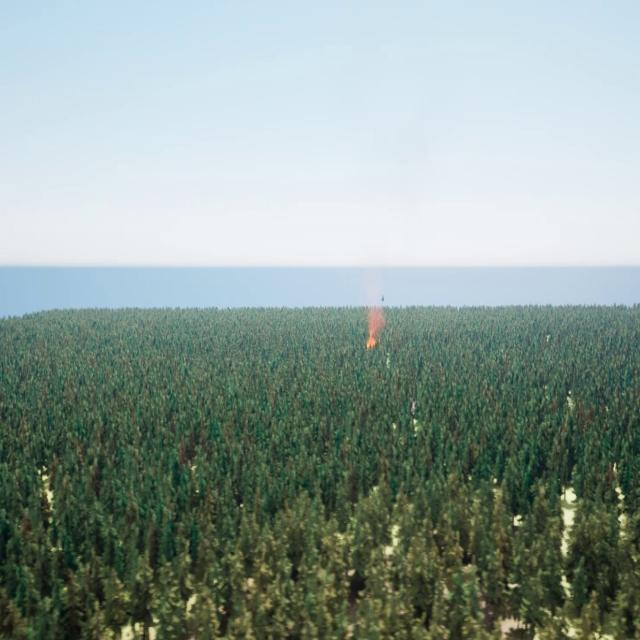smoke: (367, 297, 385, 345)
